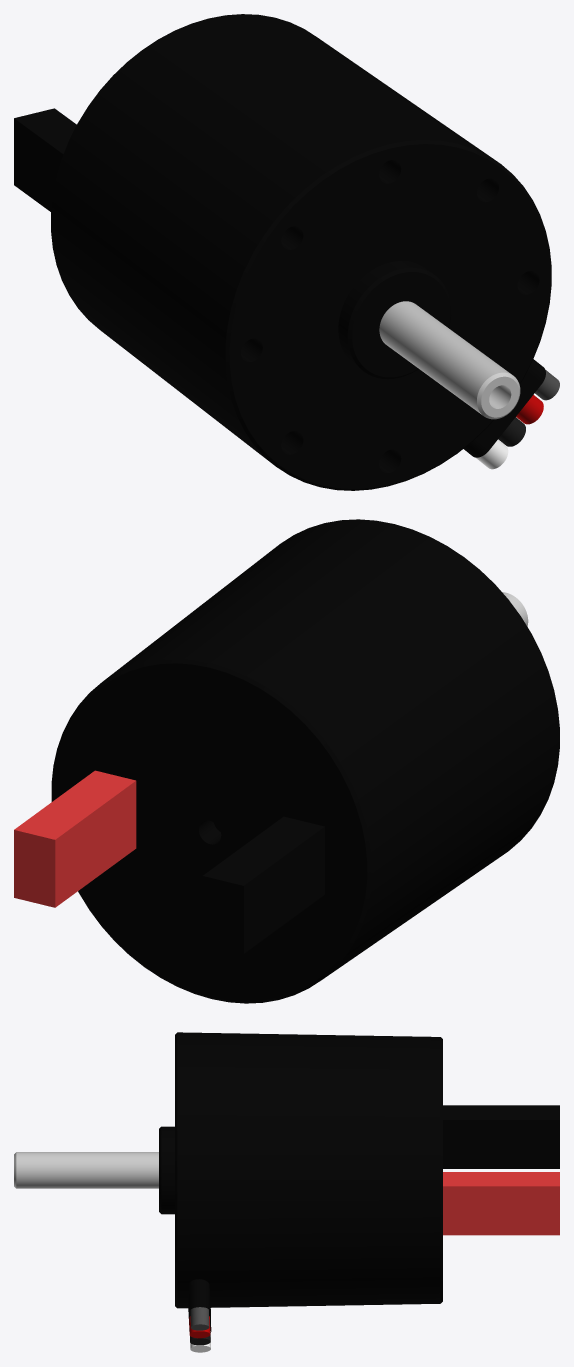
File: Part Studio 1.obj
3 views of the same model, one above another, from view 1: azimuth 30°, elevation 25°; view 2: azimuth 150°, elevation 25°; view 3: azimuth 270°, elevation 25° (orthographic). The views are drawn at different scales.
Parts seen in each view (by area): view 1: mesh13, mesh16, mesh34, mesh19, mesh15, mesh50, mesh17, mesh51, mesh4, mesh18, mesh41; view 2: mesh13, mesh44, mesh47, mesh50, mesh14, mesh51, mesh48, mesh49, mesh54; view 3: mesh13, mesh45, mesh52, mesh34, mesh48, mesh51, mesh17, mesh15, mesh14, mesh3.
Part boxes in pixels (x1,y1,x2,y2): mesh13: [51, 14, 497, 465]; mesh16: [229, 144, 550, 489]; mesh34: [379, 301, 511, 414]; mesh19: [352, 272, 450, 377]; mesh15: [225, 140, 551, 490]; mesh50: [14, 118, 63, 211]; mesh17: [338, 261, 432, 370]; mesh51: [14, 108, 76, 154]; mesh4: [475, 373, 541, 449]; mesh18: [347, 267, 451, 379]; mesh41: [481, 376, 519, 417]; mesh13: [104, 519, 559, 978]; mesh44: [52, 663, 367, 1001]; mesh47: [55, 781, 136, 907]; mesh50: [244, 827, 324, 953]; mesh14: [51, 659, 371, 1003]; mesh51: [203, 816, 324, 885]; mesh48: [14, 770, 135, 839]; mesh49: [14, 830, 55, 907]; mesh54: [202, 876, 243, 953]; mesh13: [177, 1032, 440, 1308]; mesh45: [443, 1186, 559, 1235]; mesh52: [443, 1120, 559, 1168]; mesh34: [16, 1152, 158, 1188]; mesh48: [443, 1172, 559, 1186]; mesh51: [443, 1105, 559, 1119]; mesh17: [161, 1126, 174, 1214]; mesh15: [175, 1033, 177, 1307]; mesh14: [440, 1037, 442, 1303]; mesh3: [188, 1279, 209, 1310].
Bounding box in the file's own units: 0.0638 × 0.0638 × 0.1187.
